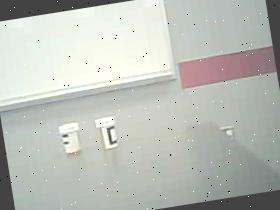Bottle D: (92, 112, 124, 153)
Bottle F: (55, 118, 91, 158)
